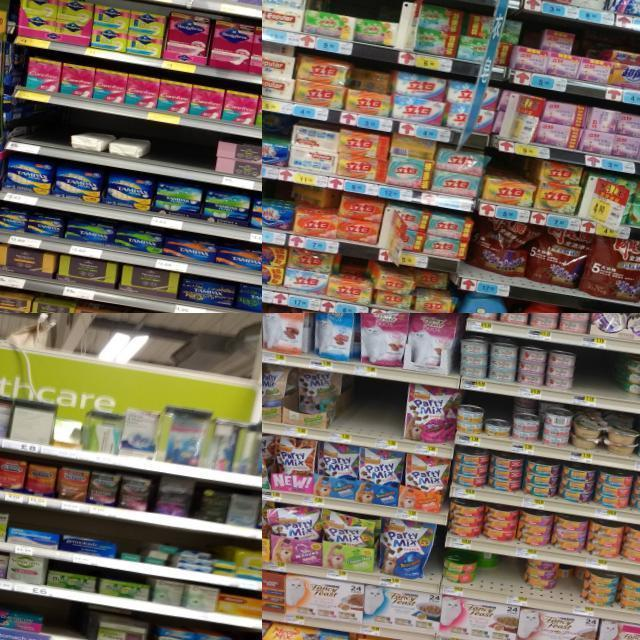Imprecise: (347, 62, 397, 120), (526, 557, 573, 609), (476, 552, 502, 596)
